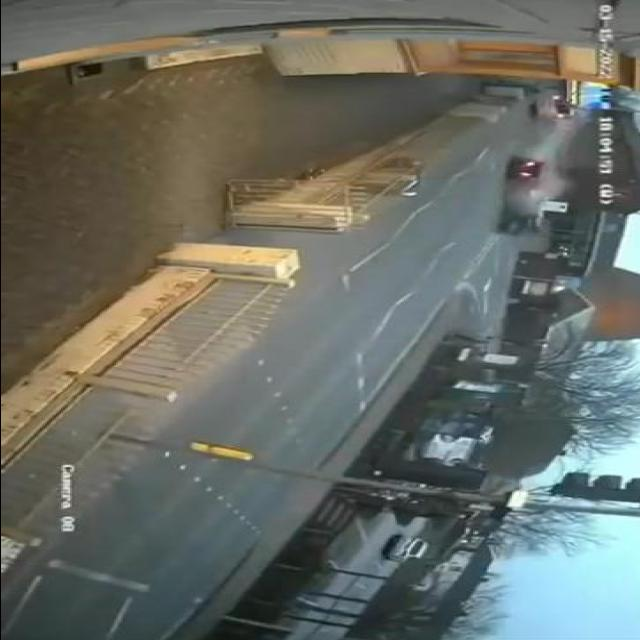accident: (490, 152, 570, 244)
